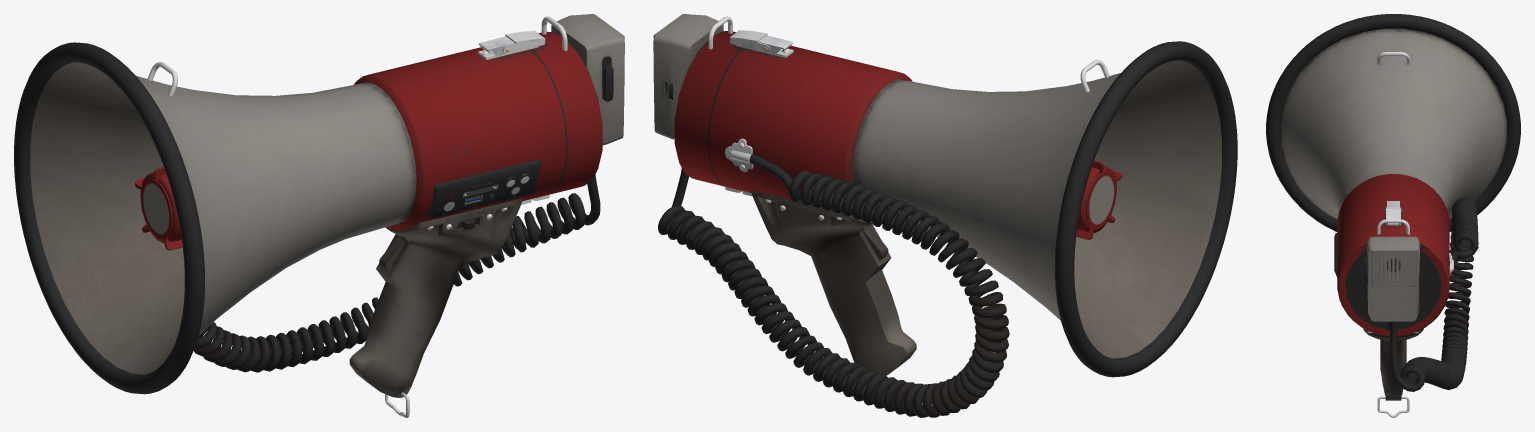
Rendered from Megaphone_01_2k.fbx.
3 views of the same model, side by side, from view 1: azimuth 30°, elevation 25°; view 2: azimuth 150°, elevation 25°; view 3: azimuth 270°, elevation 25° (orthographic). The views are drawn at different scales.
Visible parts, largest first — view 1: Megaphone_01; view 2: Megaphone_01; view 3: Megaphone_01.
Part boxes in pixels (left/top/right/bottom): Megaphone_01: left=14, top=14, right=624, bottom=417; Megaphone_01: left=653, top=14, right=1237, bottom=417; Megaphone_01: left=1266, top=14, right=1520, bottom=417.
Bounding box in the file's own units: 37.07 × 30.01 × 22.85.
Materials: 1 (1 with a texture image).
